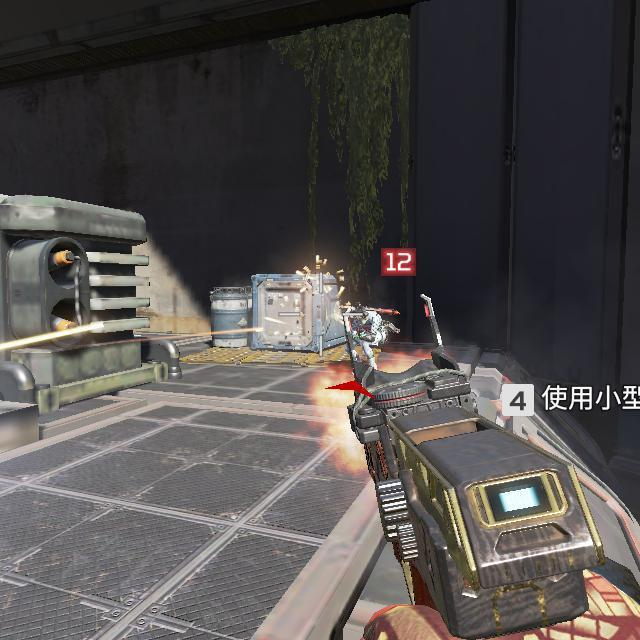avatar: (348, 301, 392, 371)
